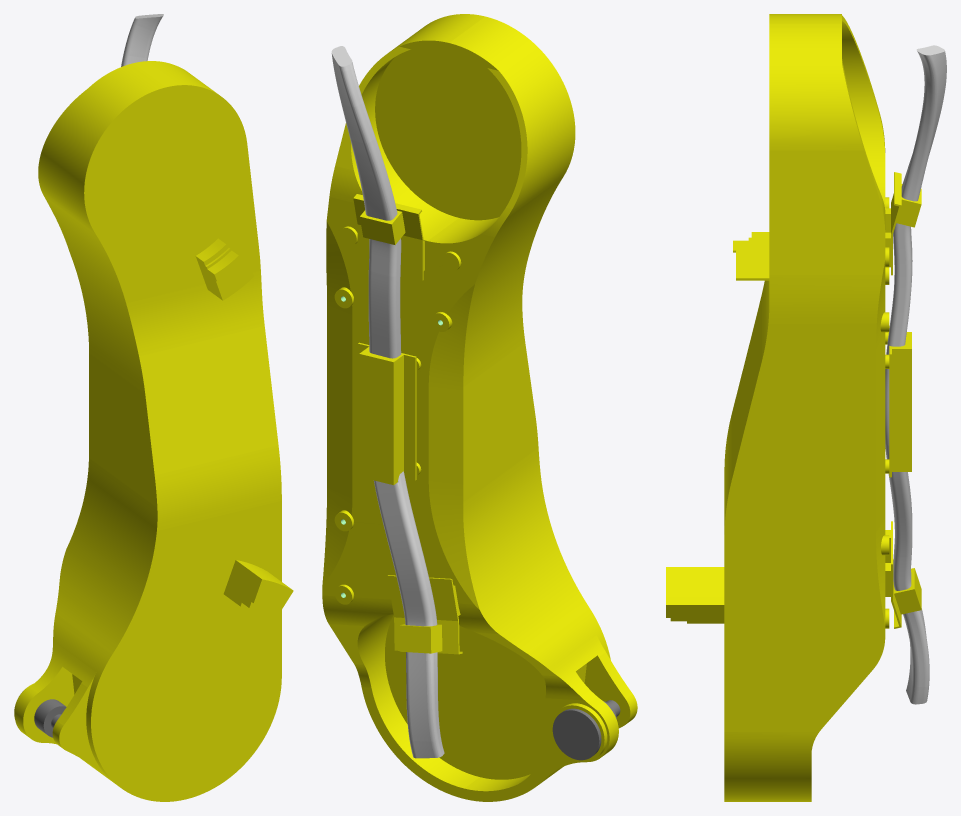
3 views of the same model, side by side, from view 1: azimuth 30°, elevation 25°; view 2: azimuth 150°, elevation 25°; view 3: azimuth 270°, elevation 25° (orthographic). The views are drawn at different scales.
Visible parts, largest first — view 1: Mesh_0; view 2: Mesh_0; view 3: Mesh_0.
Part boxes in pixels (bbox=[...]): Mesh_0: bbox=[14, 14, 293, 801]; Mesh_0: bbox=[322, 14, 637, 801]; Mesh_0: bbox=[666, 14, 946, 801].
Bounding box in the file's own units: 0.5004 × 0.4863 × 1.48.
